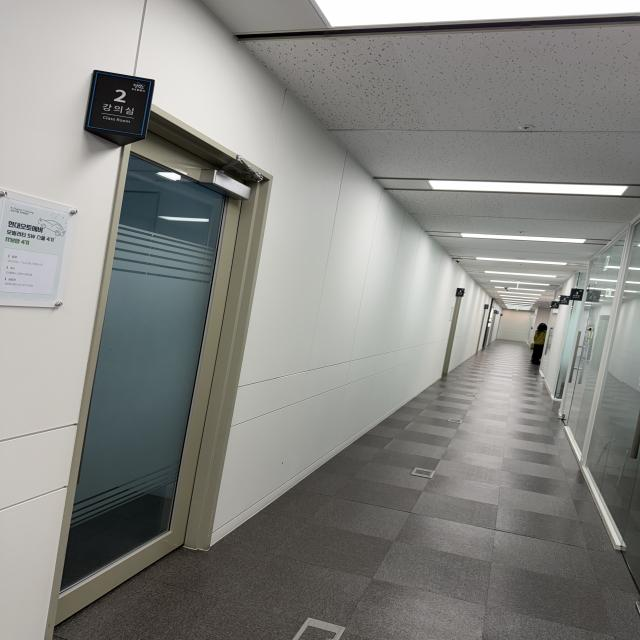room2: (90, 73, 150, 133)
